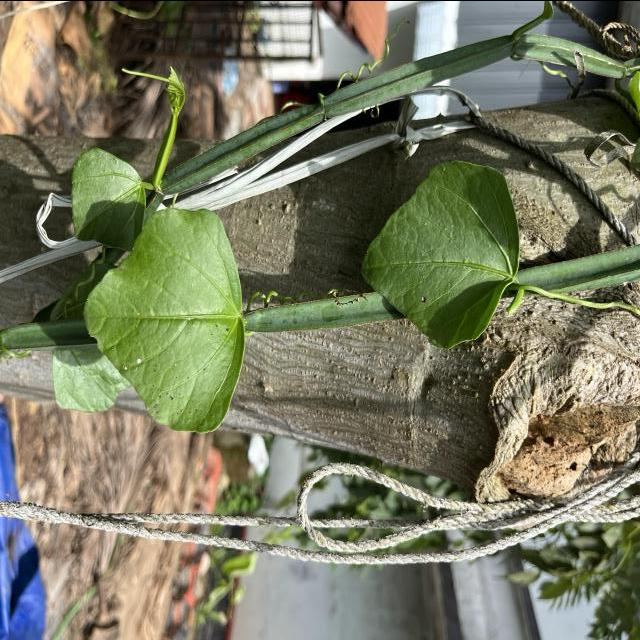Cissus quadrangularis: (80, 203, 249, 434), (357, 157, 524, 352), (67, 144, 150, 252)
